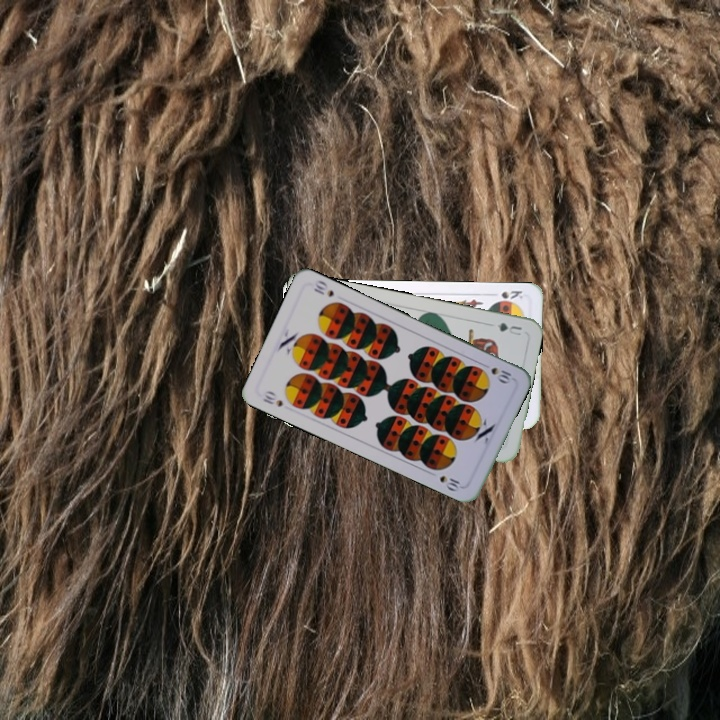GU: (493, 318, 524, 338)
S10: (478, 359, 514, 386), (259, 387, 285, 409)
SK: (497, 287, 526, 302)
